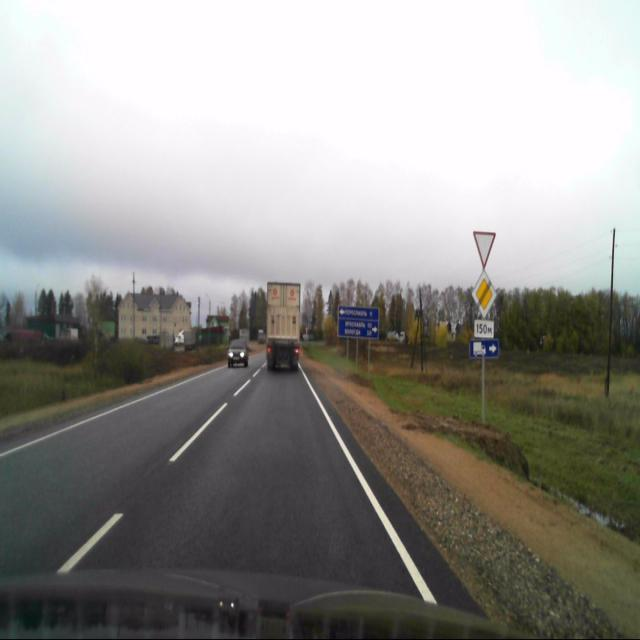road sign: (470, 270, 496, 319), (472, 230, 496, 269), (470, 340, 498, 358), (474, 320, 494, 338)
